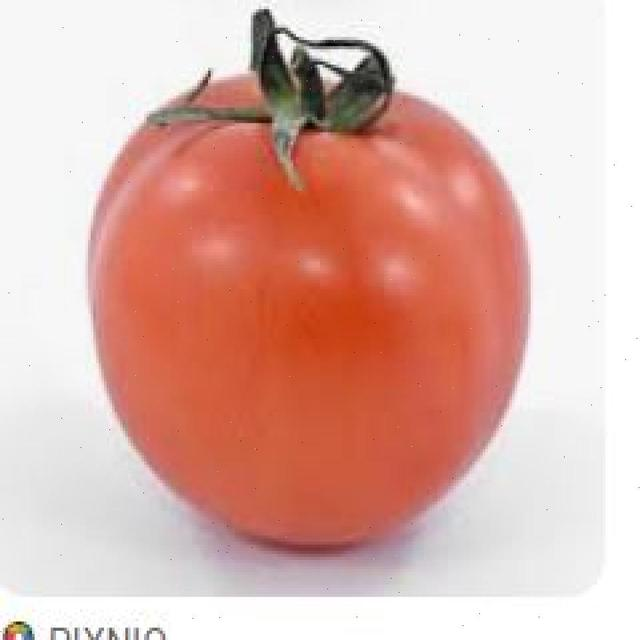Healthy Fruit: (67, 32, 355, 373)
